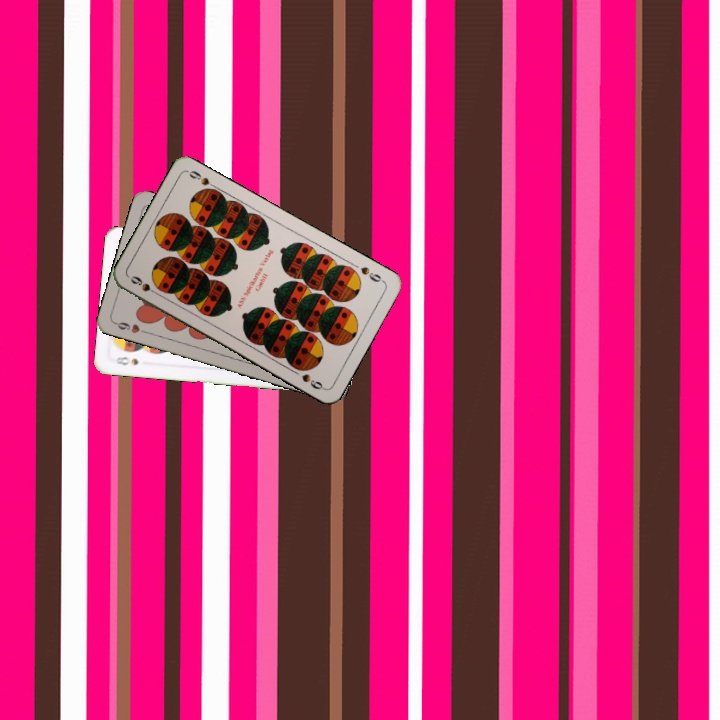H9: (111, 318, 151, 336)
S8: (111, 352, 141, 368)
S9: (126, 272, 163, 299), (356, 262, 387, 285)
